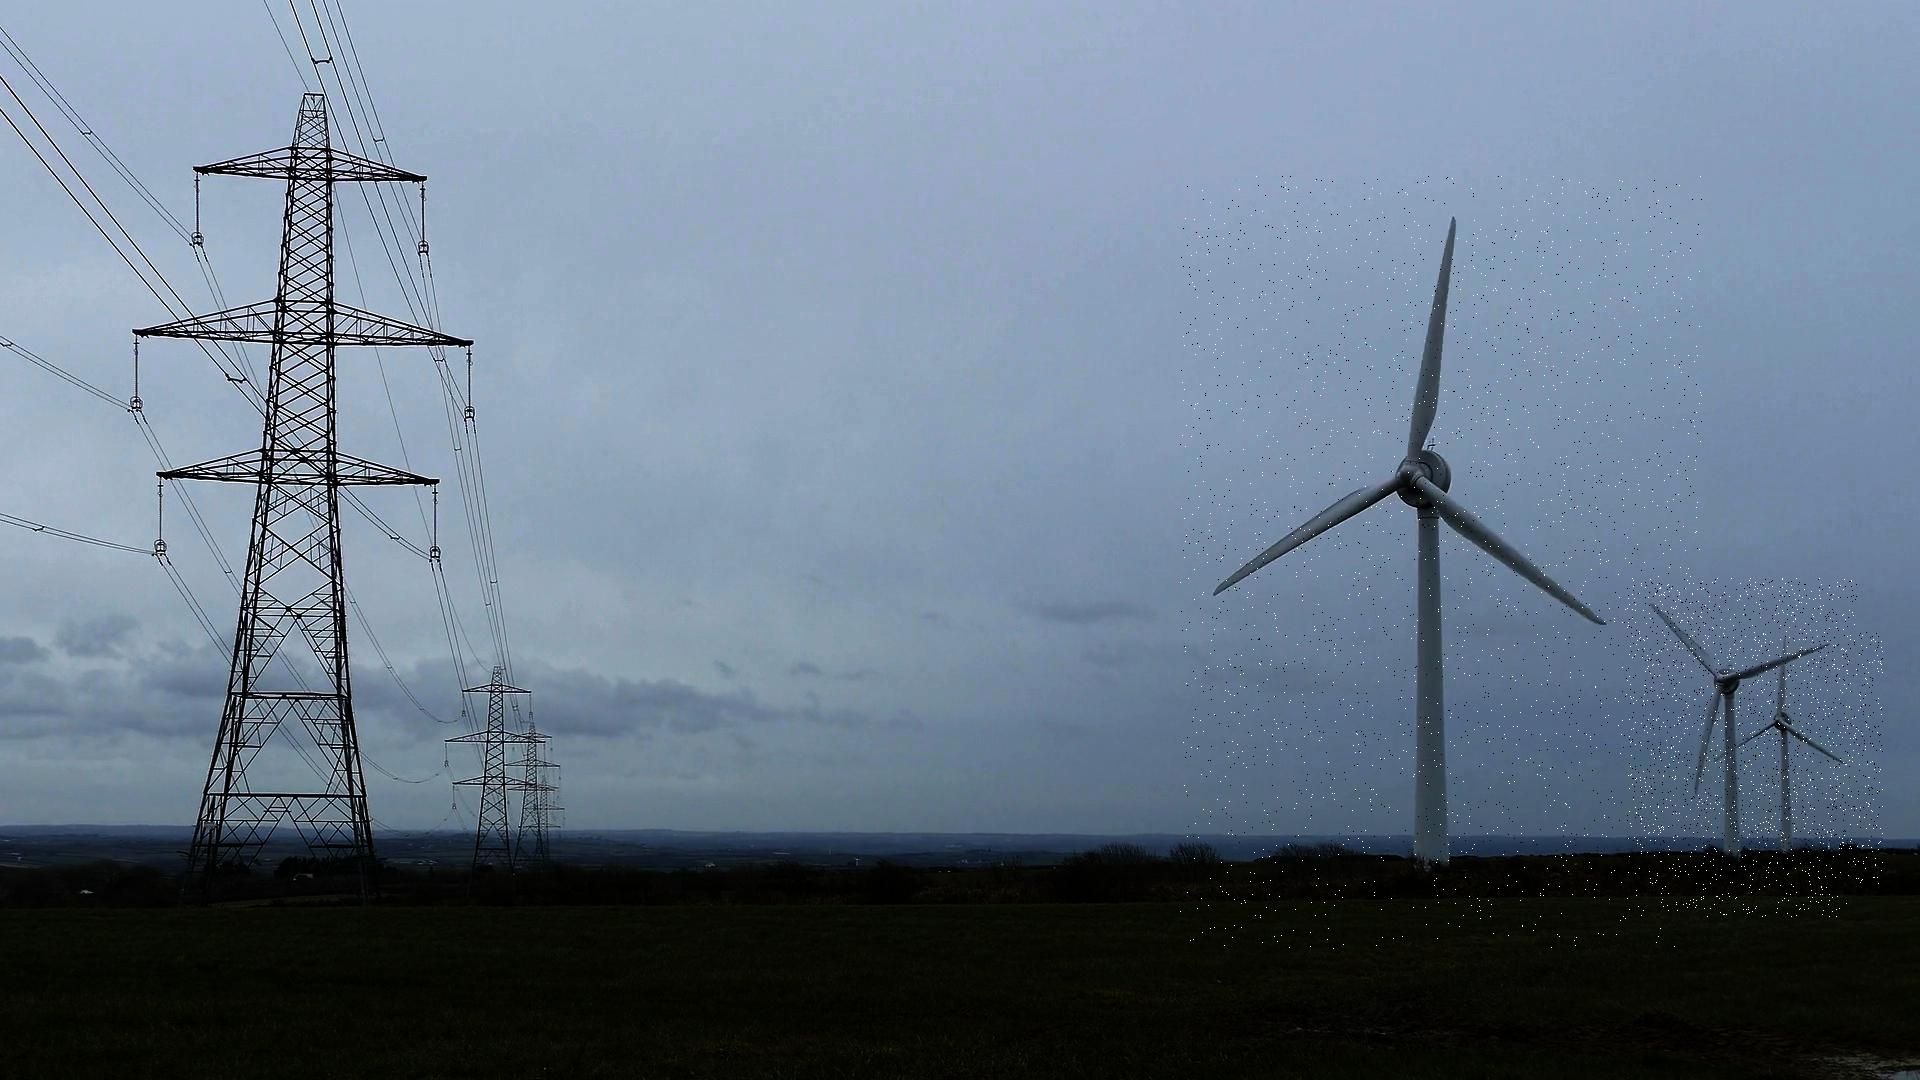cable tower: (127, 90, 477, 918), (442, 665, 547, 901), (502, 723, 560, 878), (522, 775, 564, 861)
turbine: (1180, 175, 1702, 949), (1627, 579, 1857, 918), (1727, 633, 1883, 887)
